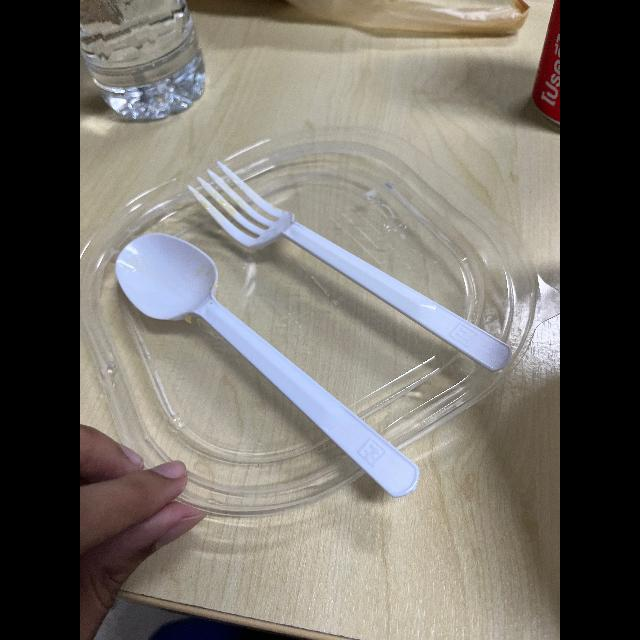plastic_cultery: (106, 240, 420, 510), (190, 170, 522, 382)
